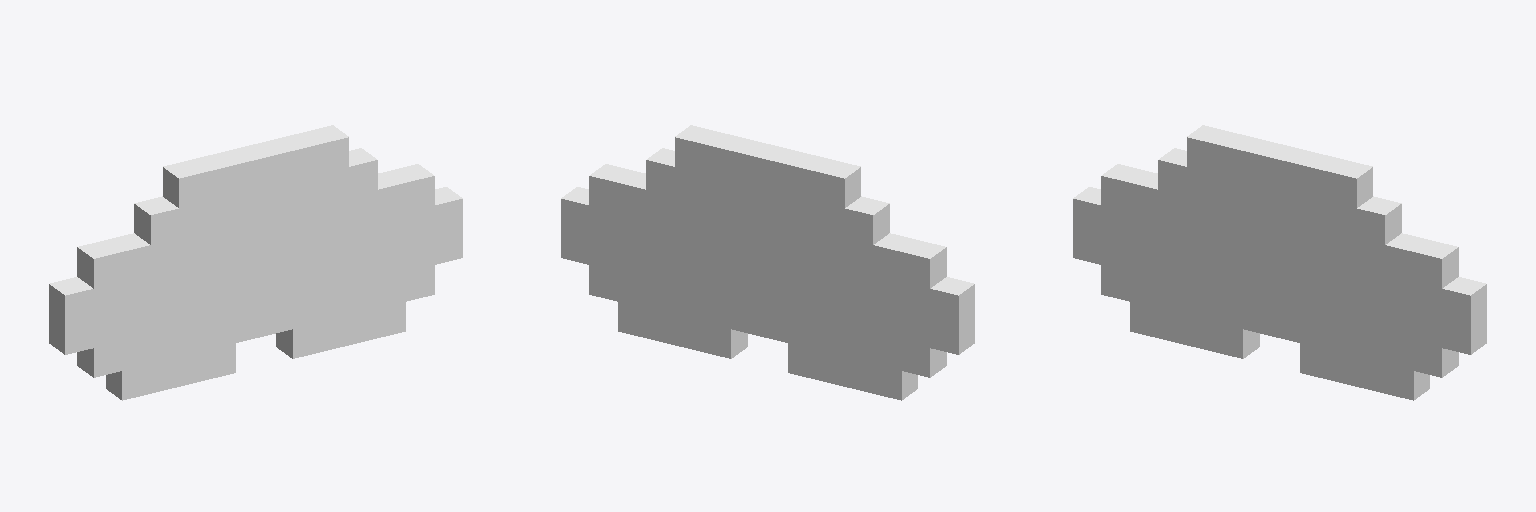
File: girl death.obj
3 views of the same model, side by side, from view 1: azimuth 30°, elevation 25°; view 2: azimuth 150°, elevation 25°; view 3: azimuth 330°, elevation 25° (orthographic).
Parts seen in each view (by area): view 1: object 1; view 2: object 1; view 3: object 1.
Part boxes in pixels (bbox=[...]): object 1: bbox=[49, 125, 462, 400]; object 1: bbox=[561, 125, 974, 400]; object 1: bbox=[1073, 125, 1486, 400].
Size of the model in its own units: 1.4 by 0.7 by 0.1.